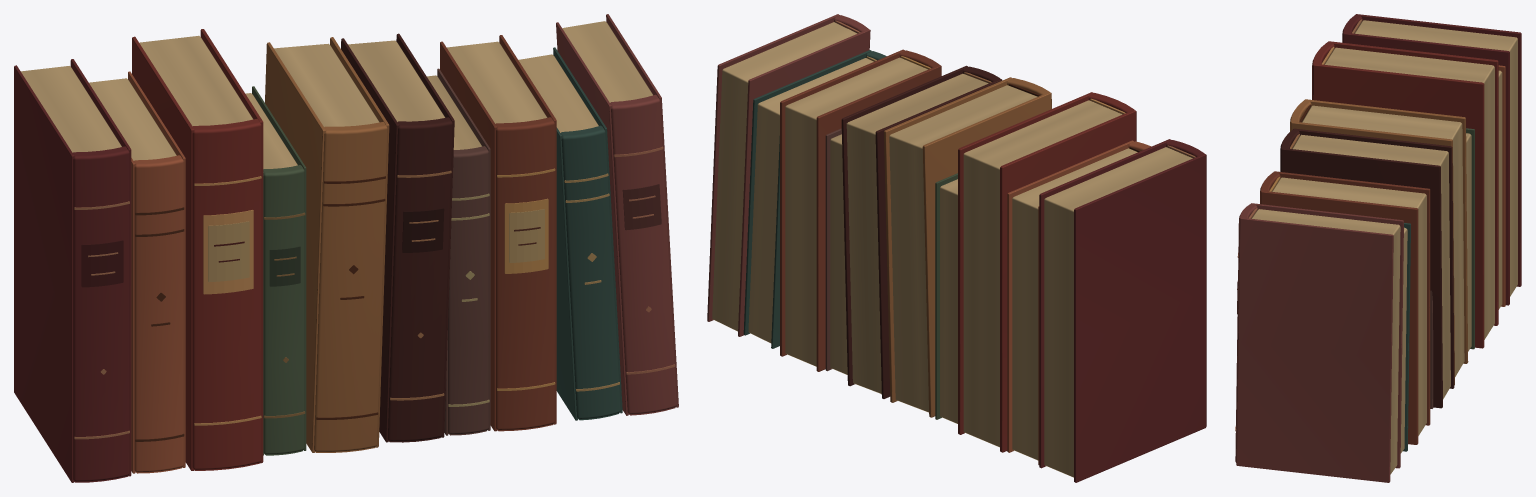
Rendered from SM_BunkerStudyLowerBooks.fbx.
3 renders of one model, left to right at view 1: azimuth 30°, elevation 25°; view 2: azimuth 150°, elevation 25°; view 3: azimuth 270°, elevation 25°, orthographic. The views are drawn at different scales.
Visible parts, largest first — view 1: SM_BunkerStudyLowerBooks; view 2: SM_BunkerStudyLowerBooks; view 3: SM_BunkerStudyLowerBooks.
Part boxes in pixels (bbox=[...]): SM_BunkerStudyLowerBooks: bbox=[14, 14, 678, 482]; SM_BunkerStudyLowerBooks: bbox=[707, 14, 1206, 482]; SM_BunkerStudyLowerBooks: bbox=[1235, 14, 1521, 482].
Size of what is drawn, in the model's own units: 45.23 by 25.16 by 25.7.
